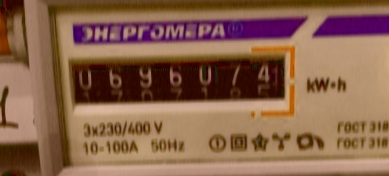0: (75, 64, 95, 88), (197, 59, 214, 85)
4: (255, 58, 272, 81)
5: (257, 83, 273, 99)
6: (168, 60, 186, 86), (107, 63, 125, 88)
7: (227, 60, 245, 85)
9: (137, 62, 154, 88)
screen: (59, 41, 300, 115)
